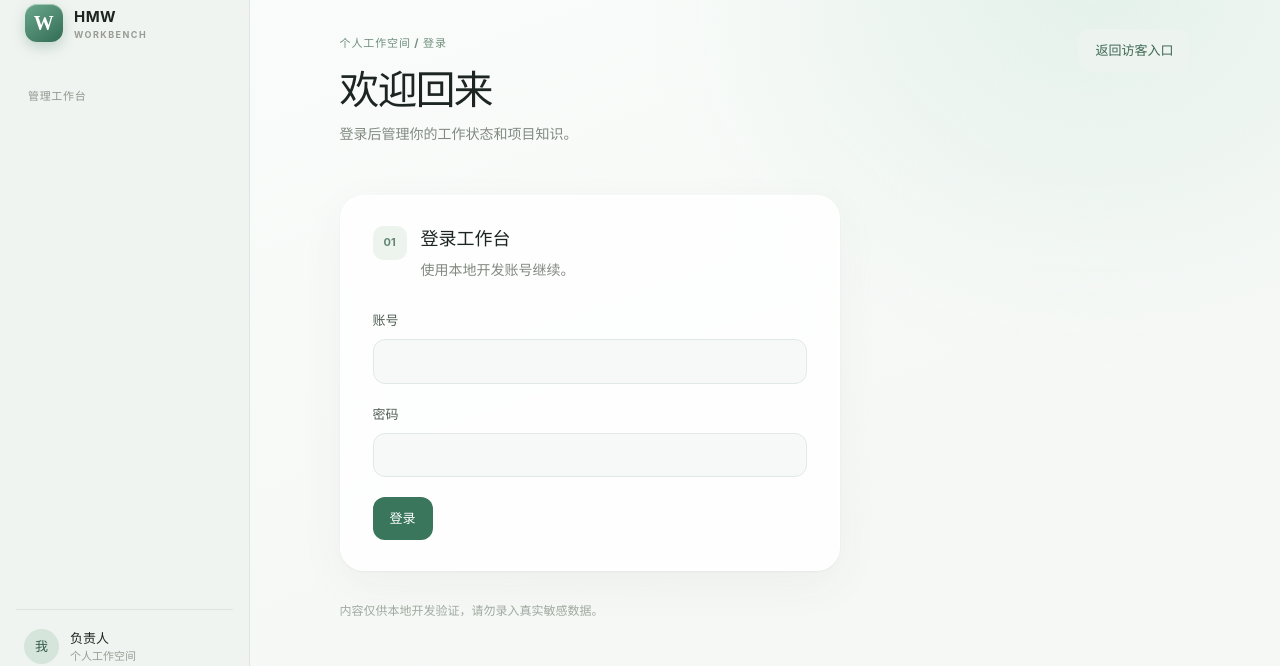
Test: personal status › signs in, saves a draft, and publishes the version returned by the server
Step 1. Type "owner" into the field labelled "账号" → (590, 361), box [373,339,807,384]
Step 2. Type "password" into the password field labelled "密码" → (590, 455), box [373,432,807,477]
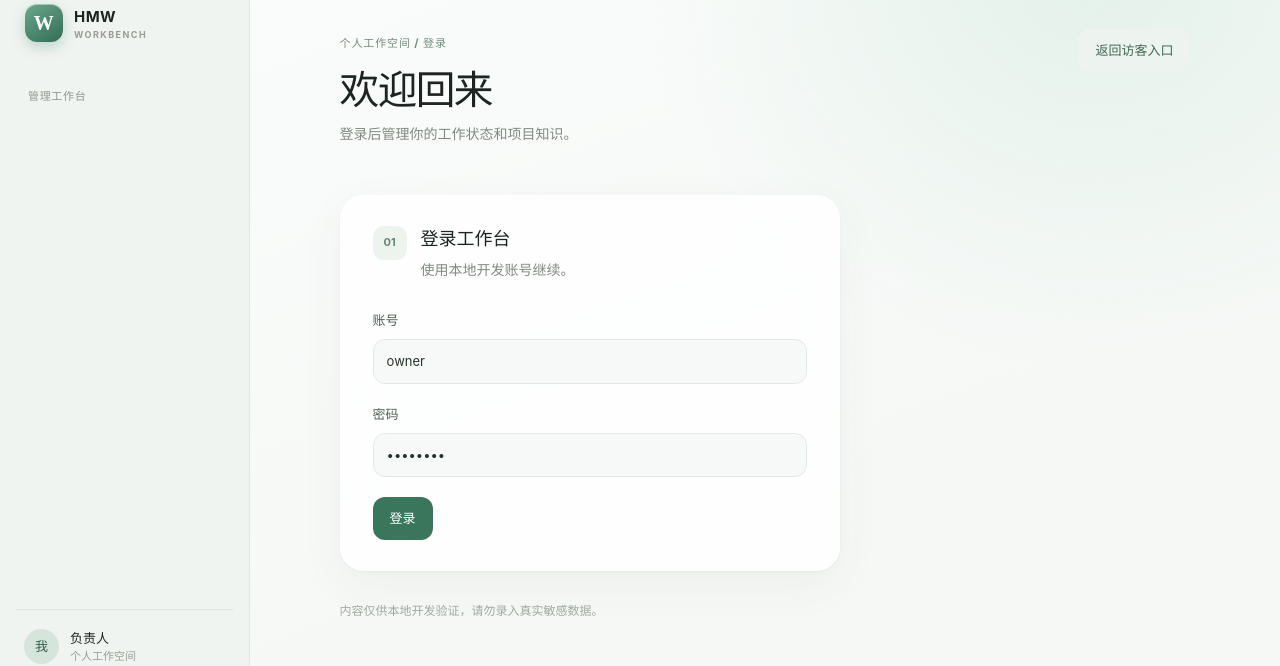
Step 3. Click the button "登录" → click(403, 519), box [373,497,433,540]
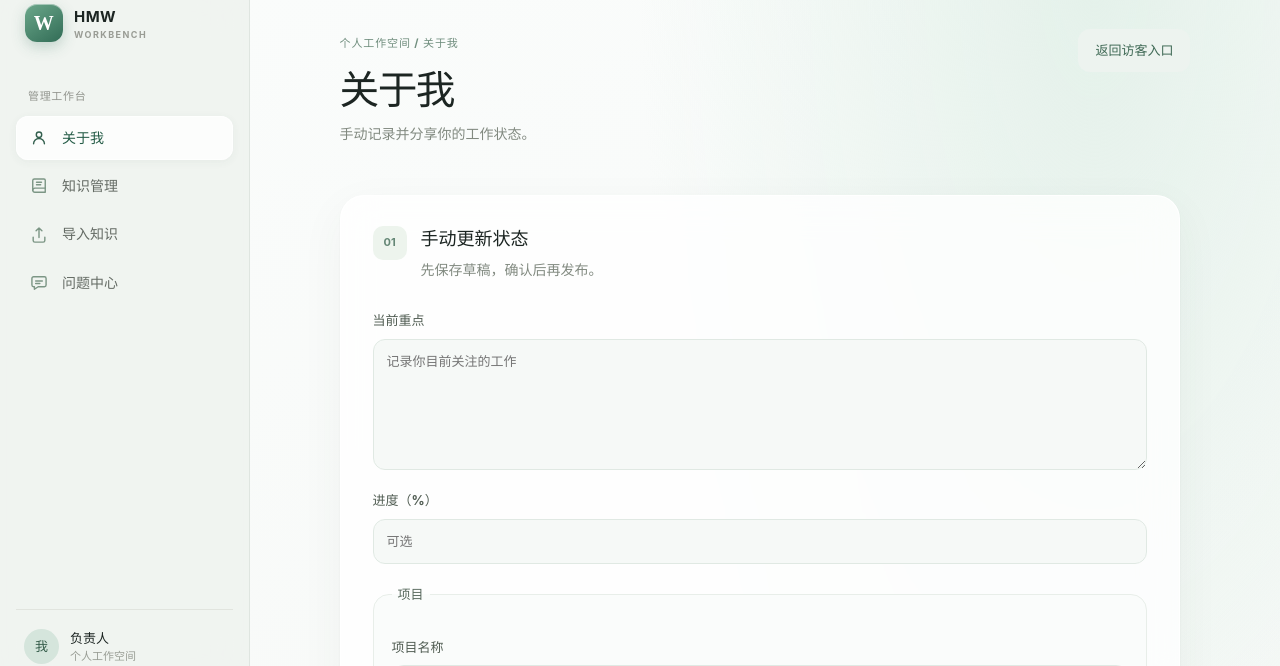
expect the text box labelled "当前重点" is shown: met
Step 4. Type "上线" into the text box labelled "当前重点" → (760, 405), box [373,339,1147,470]
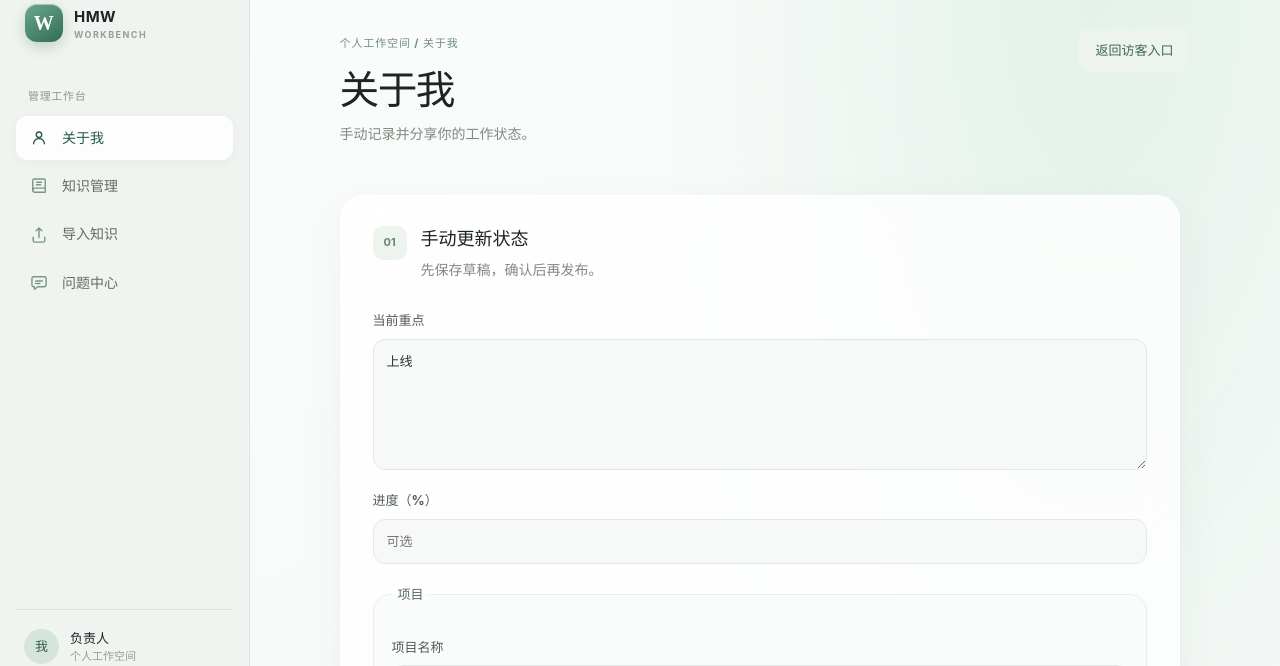
Step 5. Type "20" into the number field labelled "进度（%）" → (760, 541), box [373,519,1147,564]
(page scrolled)
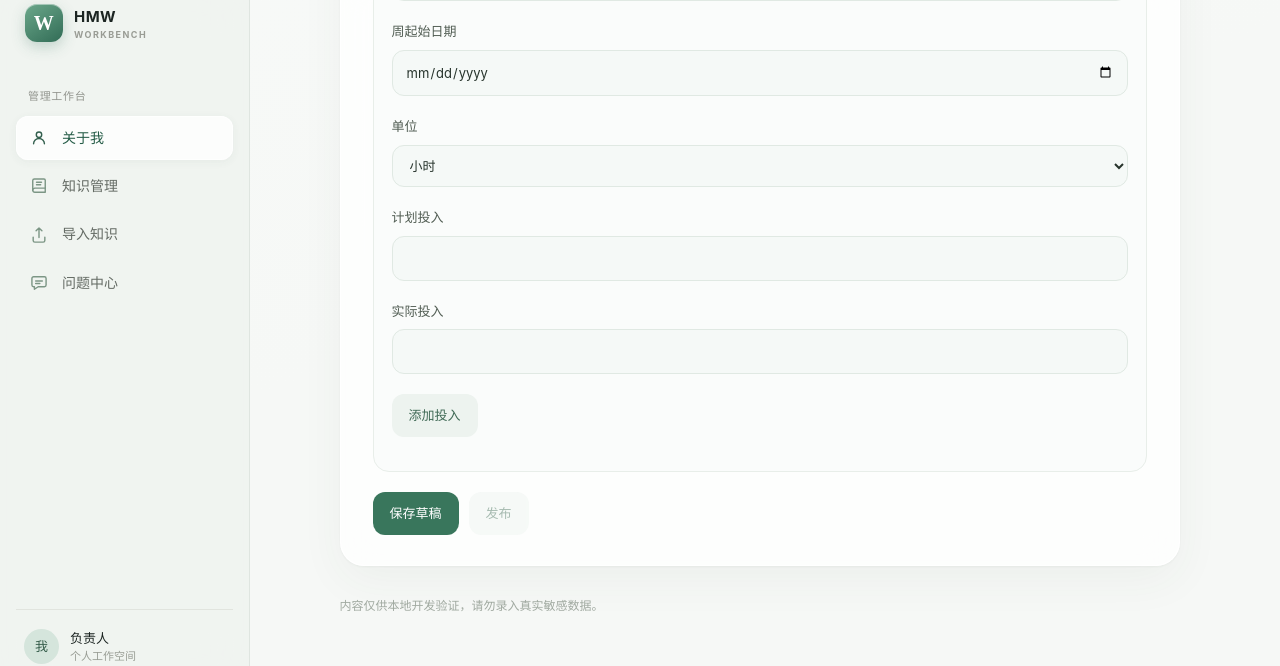
Step 6. Click the button "保存草稿" → click(416, 514), box [373,492,459,535]
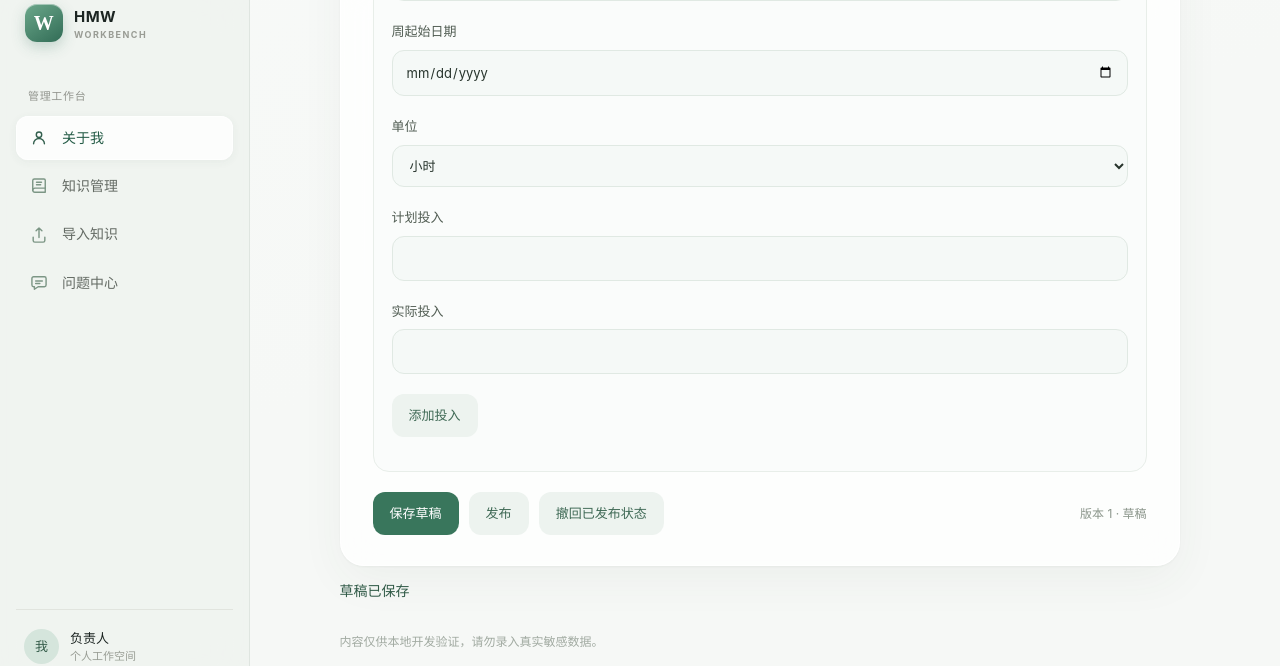
expect the text "草稿已保存" is shown: met, box [340,582,410,599]
Step 7. Click the button "发布" → click(499, 514), box [469,492,529,535]
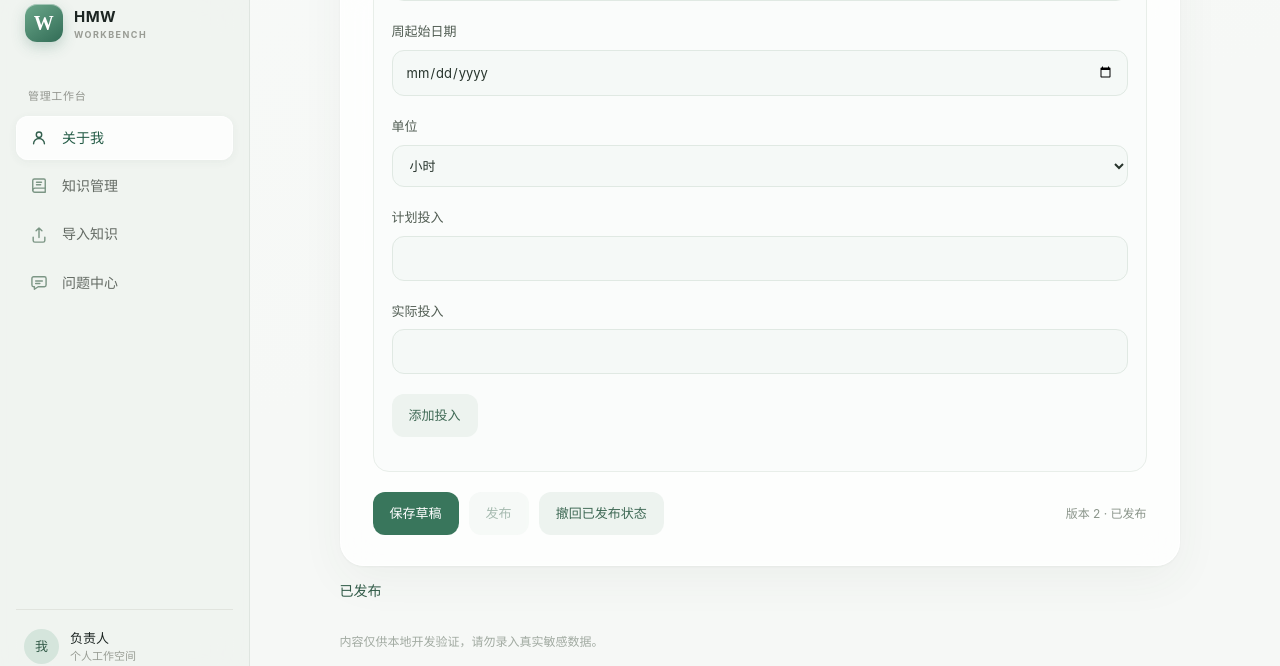
expect the text "已发布" is shown: met, box [340,582,382,599]
